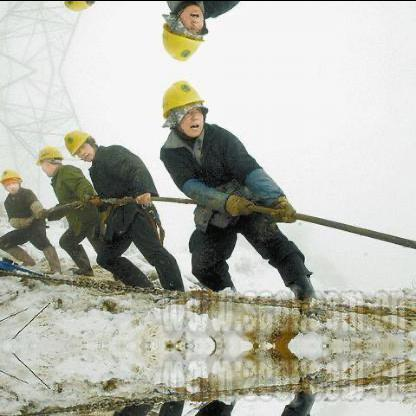Helmet: (154, 72, 209, 144), (153, 0, 210, 67), (58, 124, 98, 162), (34, 142, 64, 174), (1, 165, 24, 194), (58, 0, 99, 15)
